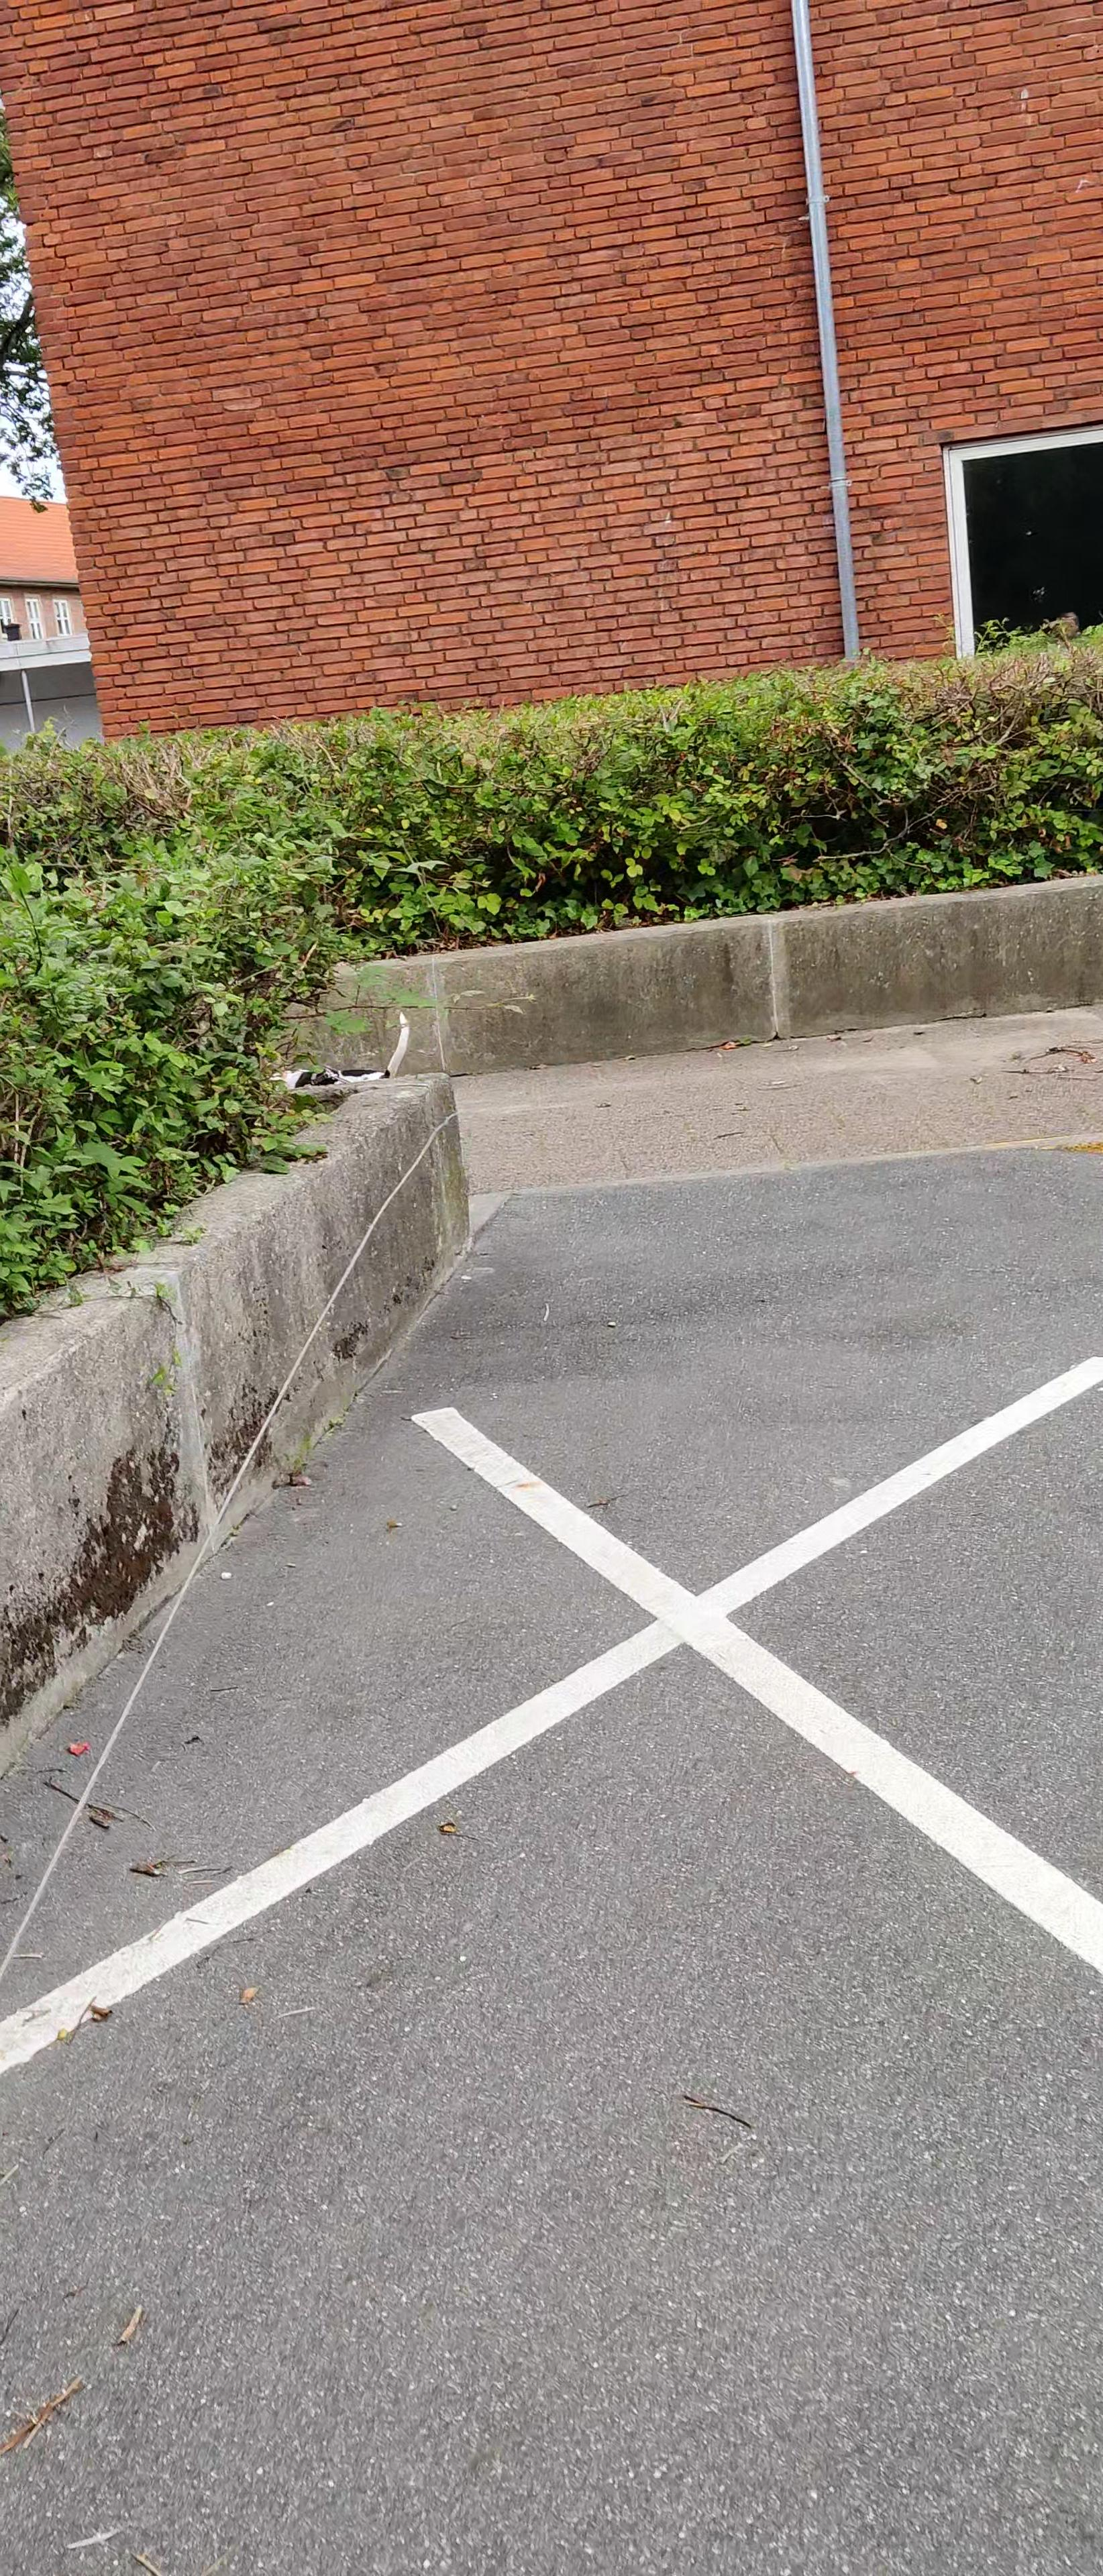Dog: (238, 1009, 416, 1101)
